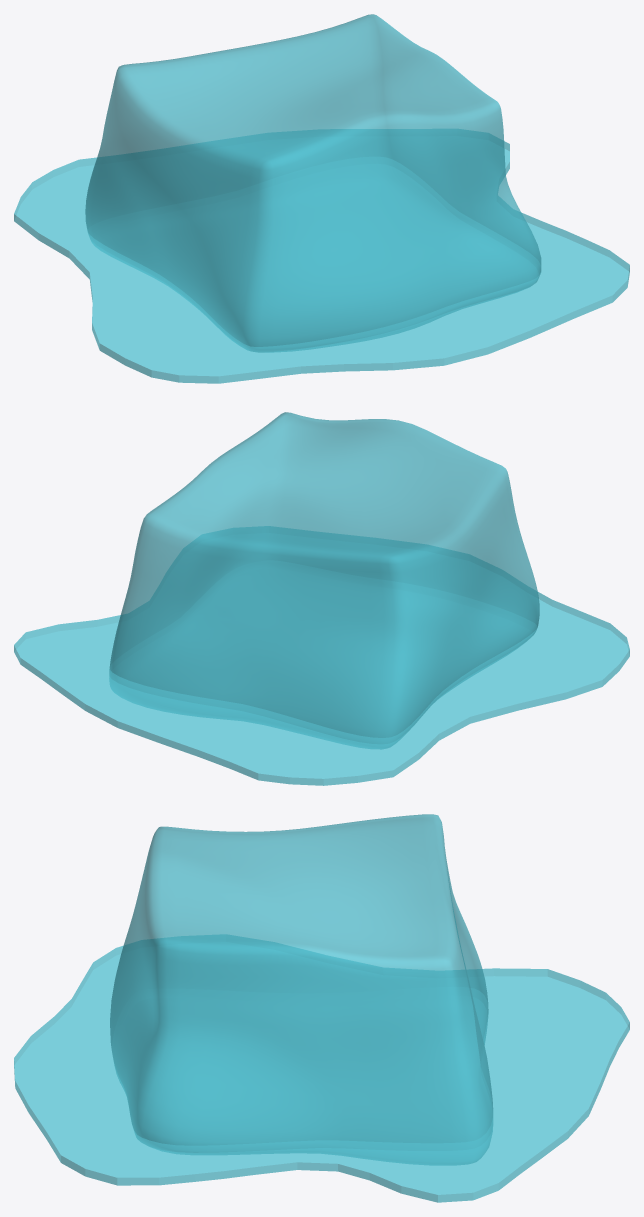
The model's file is ice_v2.glb.
The picture shows the model from 3 angles, top to bottom: view 1: azimuth 30°, elevation 25°; view 2: azimuth 150°, elevation 25°; view 3: azimuth 270°, elevation 25°; orthographic projection. The views are drawn at different scales.
Parts seen in each view (by area): view 1: Plane, Ice Cube.001; view 2: Ice Cube.001, Plane; view 3: Plane, Ice Cube.001.
Boxes of the visible parts, x1=… form: Plane: x1=14, y1=129, x2=629, y2=383; Ice Cube.001: x1=85, y1=14, x2=541, y2=352; Ice Cube.001: x1=109, y1=412, x2=539, y2=748; Plane: x1=14, y1=526, x2=629, y2=785; Plane: x1=14, y1=935, x2=629, y2=1202; Ice Cube.001: x1=110, y1=814, x2=493, y2=1164.
Bounding box in the file's own units: 1.9 × 0.7801 × 1.89.
